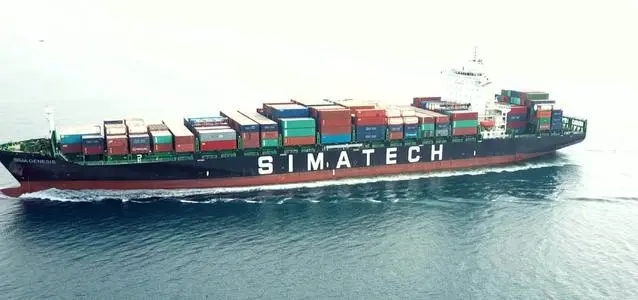Cargoship: (2, 64, 590, 196)
